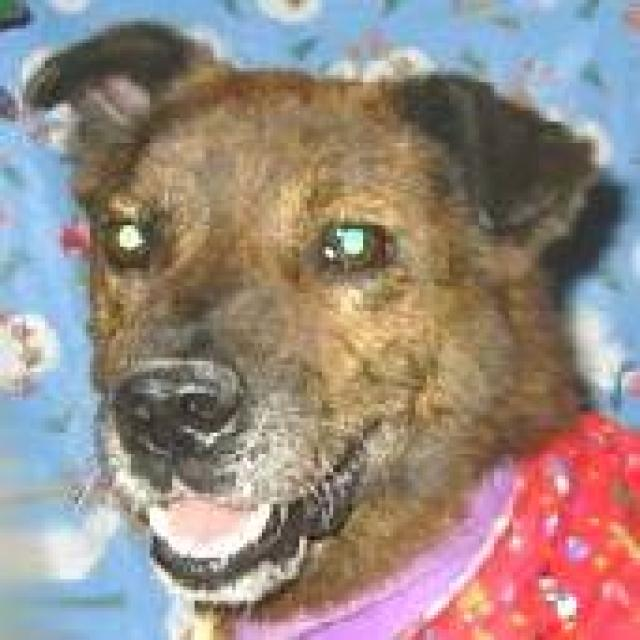Dog: (13, 19, 608, 594)
